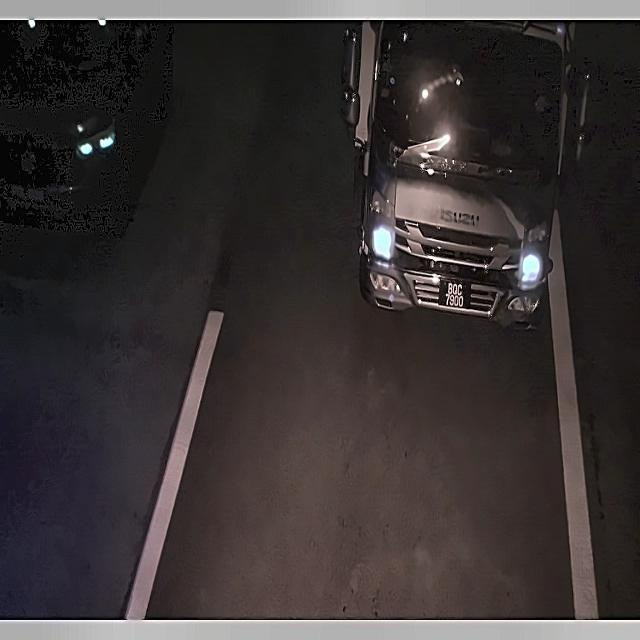car: (434, 270, 472, 317)
